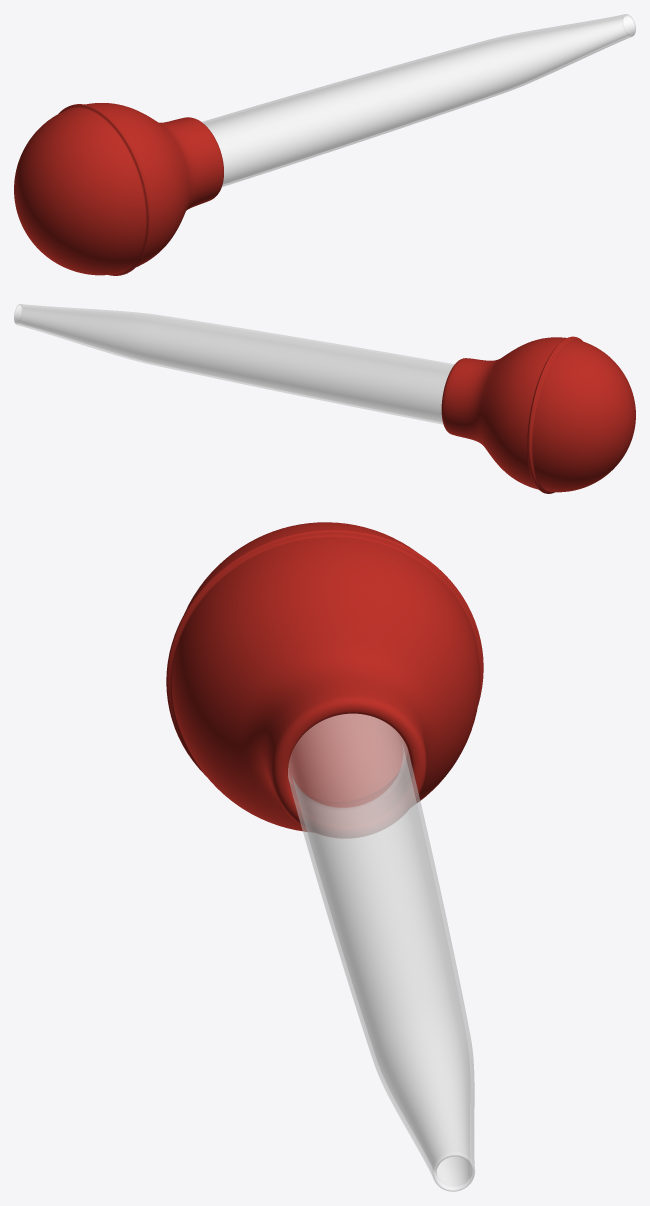
Rendered from turkey_baster.obj.
3 views of the same model, one above another, from view 1: azimuth 30°, elevation 25°; view 2: azimuth 150°, elevation 25°; view 3: azimuth 270°, elevation 25° (orthographic). The views are drawn at different scales.
Visible parts, largest first — view 1: poultry_baster.001, poultry_baster_02; view 2: poultry_baster.001, poultry_baster_02; view 3: poultry_baster.001, poultry_baster_02.
Boxes of the visible parts, left/top/right/bottom form: poultry_baster.001: left=14, top=103, right=223, bottom=275; poultry_baster_02: left=202, top=14, right=635, bottom=186; poultry_baster.001: left=441, top=336, right=635, bottom=493; poultry_baster_02: left=14, top=304, right=454, bottom=424; poultry_baster.001: left=166, top=522, right=483, bottom=837; poultry_baster_02: left=288, top=713, right=475, bottom=1191.
Size of the model in its own units: 0.2839 by 0.068 by 0.0677.
Materials: 2 (1 with a texture image).
